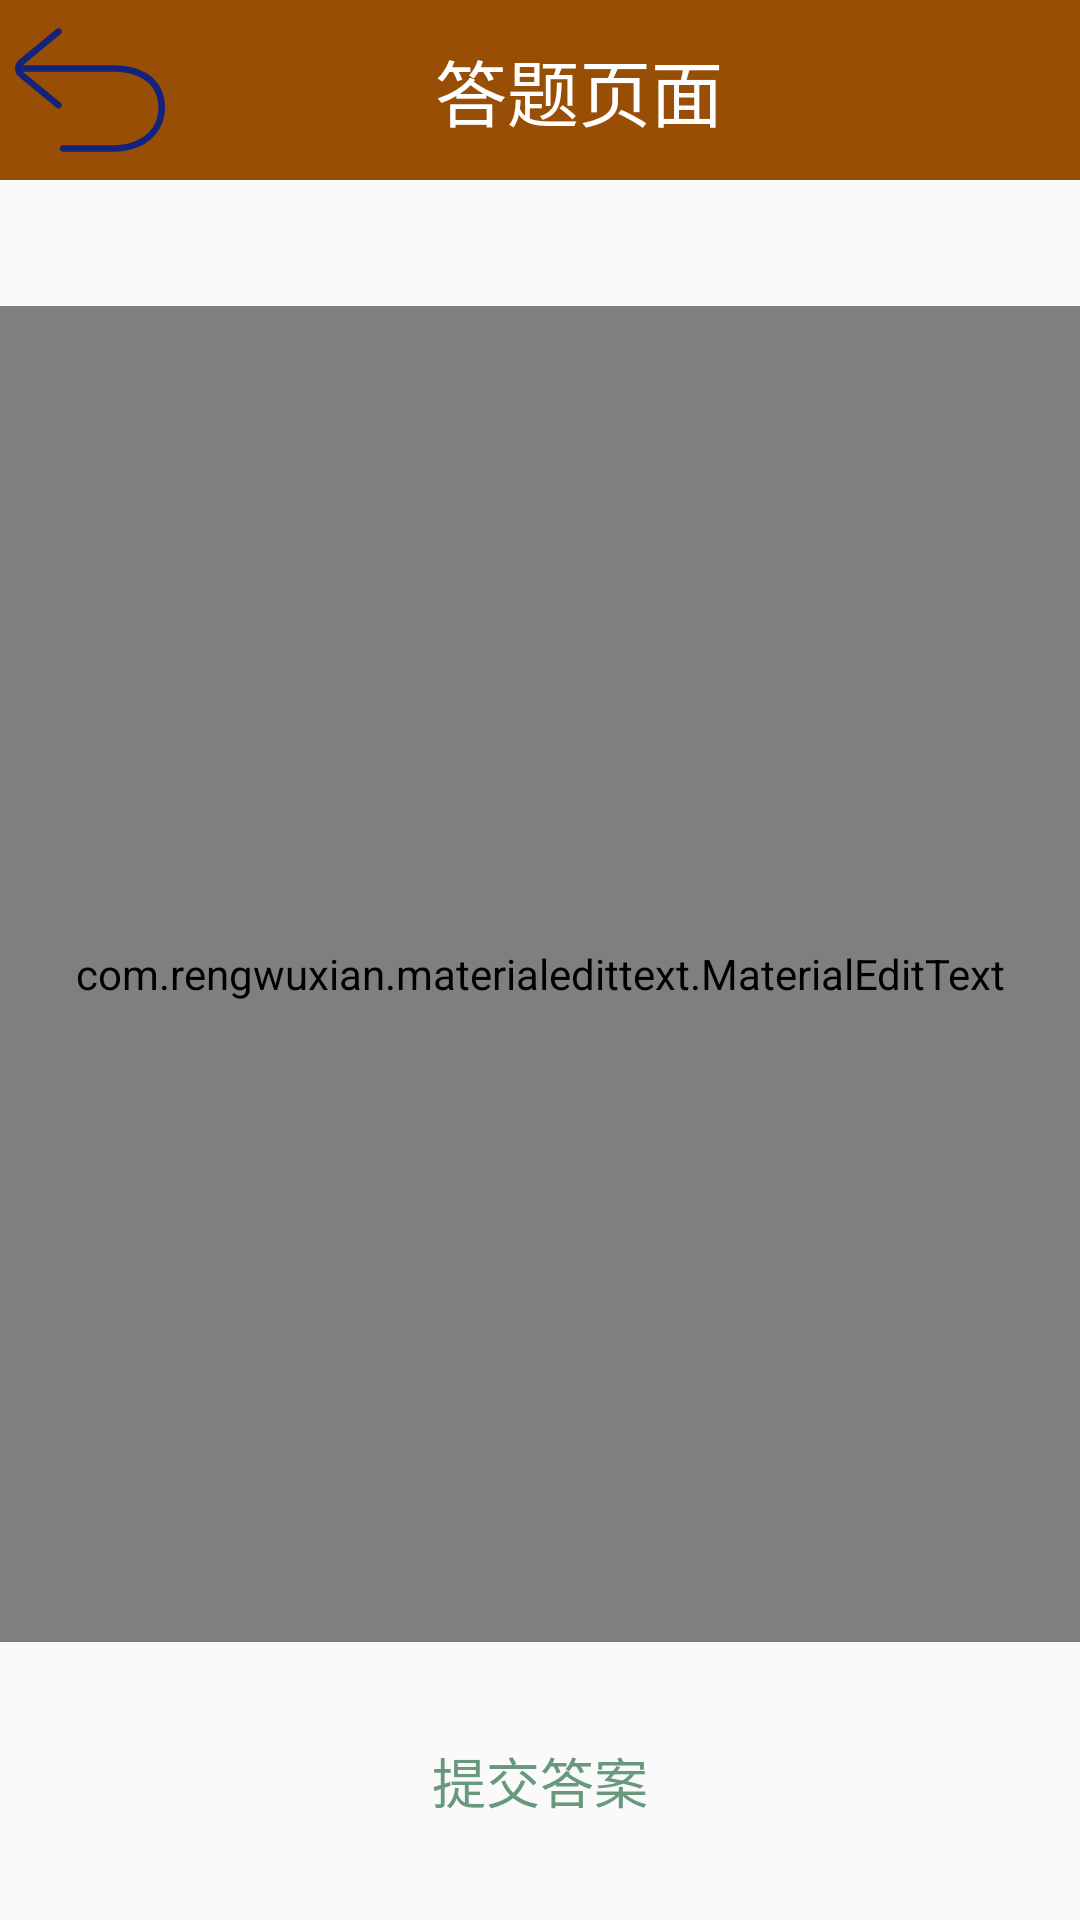

Icons on this 1080×1920 Android screen, each with the point to tap as (x=x, y=y):
comeback: (x=90, y=90)
